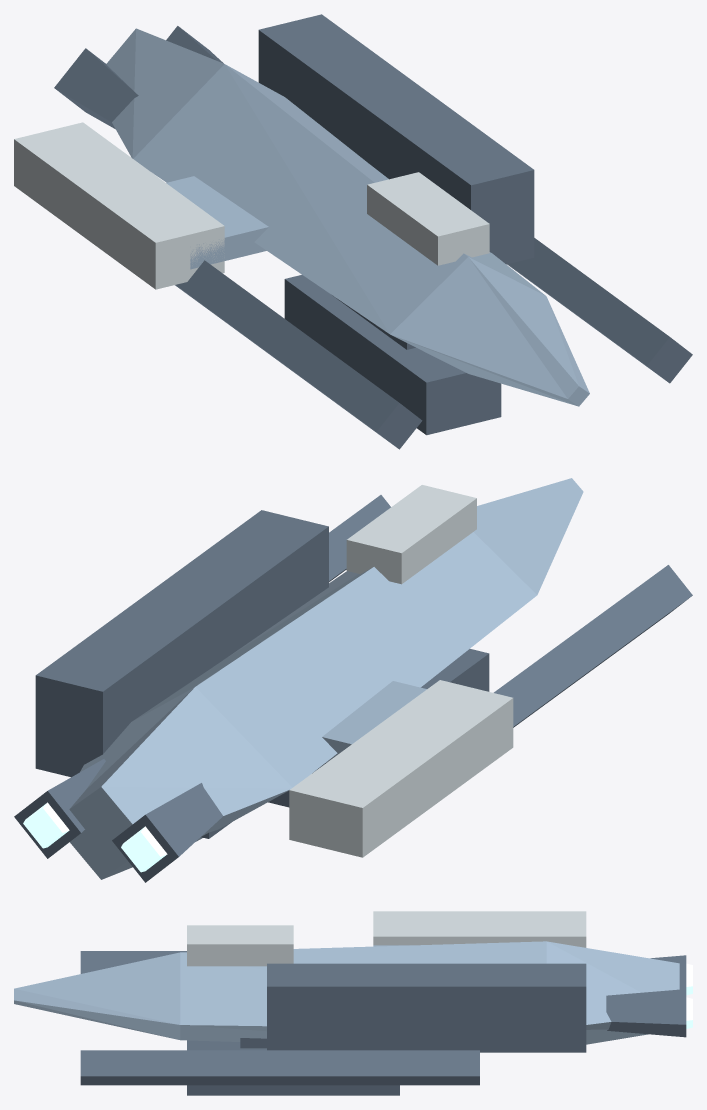
The picture shows the model from 3 angles, top to bottom: view 1: azimuth 30°, elevation 25°; view 2: azimuth 150°, elevation 25°; view 3: azimuth 270°, elevation 25°; orthographic projection. The views are drawn at different scales.
Bounding box in the file's own units: 2.5 × 1.37 × 5.71.
